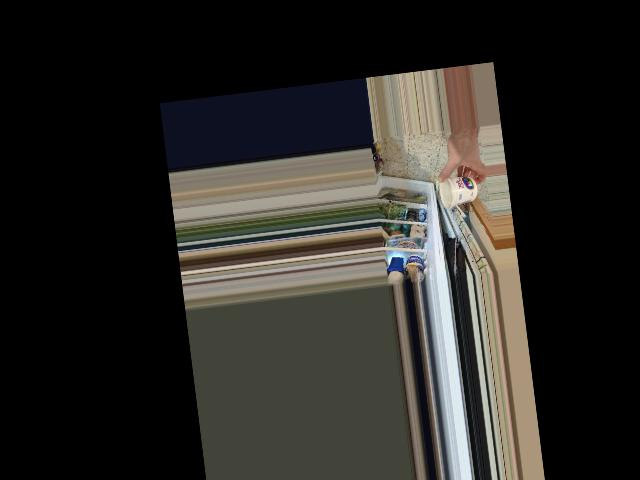cotage: (435, 171, 483, 209)
